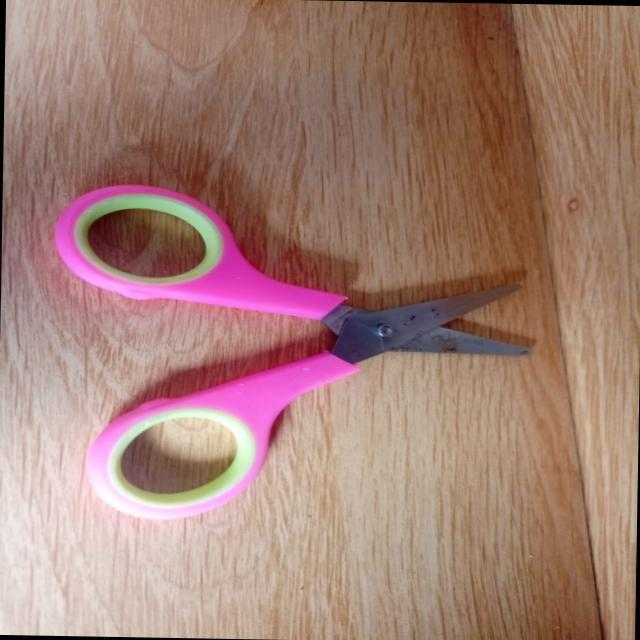scissors: (21, 148, 570, 538)
